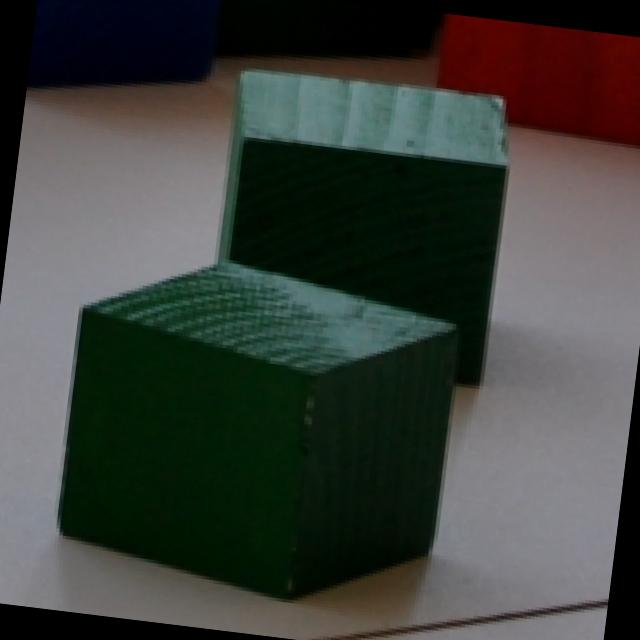bluecube: (28, 0, 222, 89)
green cube: (61, 254, 458, 604), (220, 68, 509, 390)
red cube: (434, 17, 640, 143)
